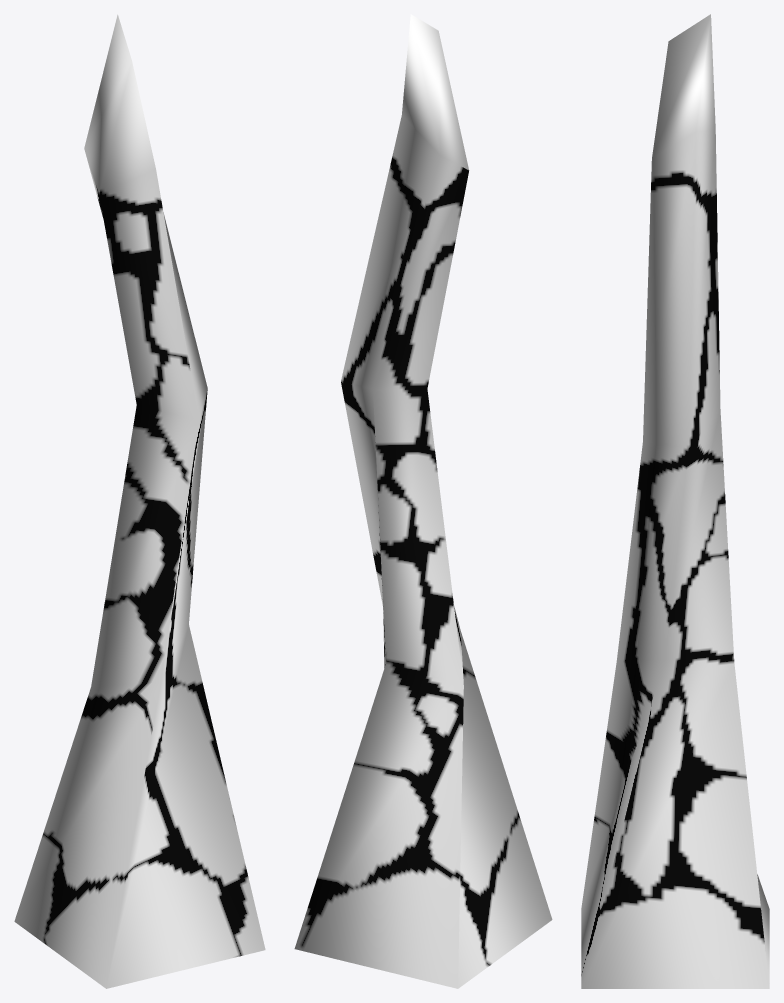
Rendered from Stone_04_05.fbx.
3 renders of one model, left to right at view 1: azimuth 30°, elevation 25°; view 2: azimuth 150°, elevation 25°; view 3: azimuth 270°, elevation 25°, orthographic. The views are drawn at different scales.
Visible parts, largest first — view 1: Stone_04_05; view 2: Stone_04_05; view 3: Stone_04_05.
Boxes of the visible parts, <box> form: Stone_04_05: <box>14,14,265,988</box>; Stone_04_05: <box>294,14,552,988</box>; Stone_04_05: <box>581,14,769,988</box>.
Bounding box in the file's own units: 2.62 × 14.32 × 2.62.
